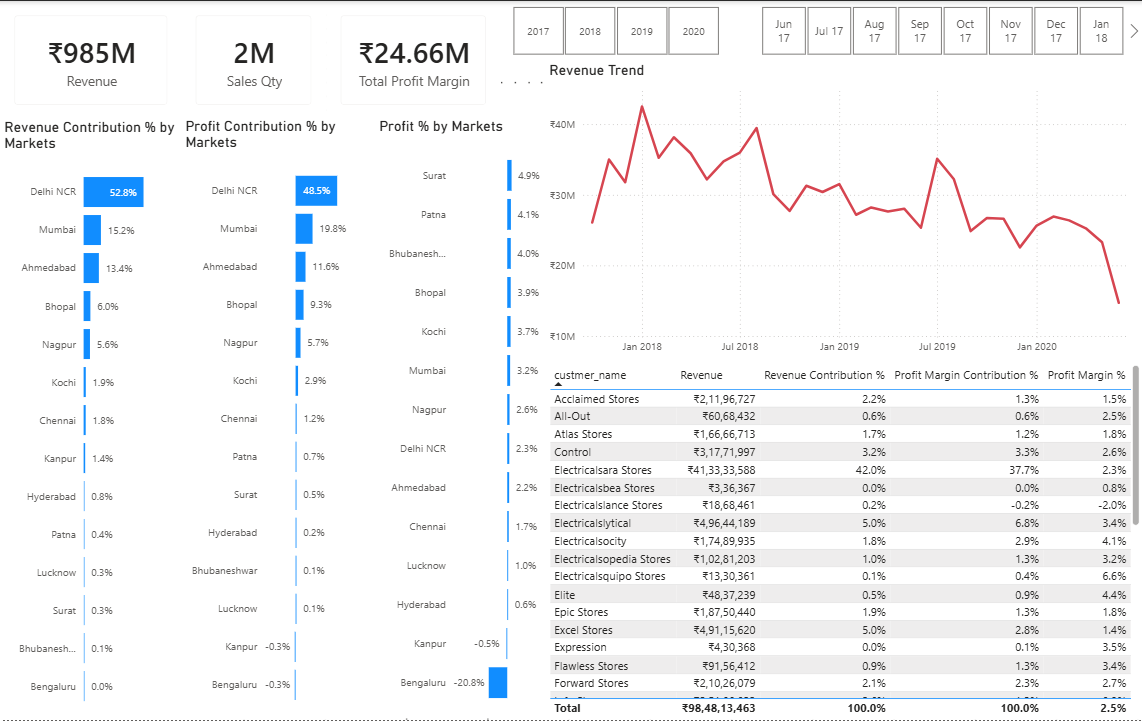

What the dashboard file says about the page in this screenshot:
{"tool":"powerbi","page":{"name":"Profit Analysis","canvas":[1350,850],"ordinal":1},"visuals":[{"type":"cardVisual","fields":{"Data":["BaseMeasures.Sales Qty"]},"box":[214.4,0,171.2,140.8],"z":0},{"type":"cardVisual","fields":{"Data":["BaseMeasures.Revenue"]},"box":[0,0,215,140],"z":1000},{"type":"barChart","title":"Profit % by Markets","fields":{"Category":["sales markets.markets_name"],"Y":["BaseMeasures.Profit Margin %"]},"box":[443.2,137.6,200,710.4],"z":2000},{"type":"barChart","title":"Revenue Contribution % by Markets","fields":{"Category":["sales markets.markets_name"],"Y":["BaseMeasures.Revenue Contribution %"]},"box":[0,139.2,214.4,712],"z":3000},{"type":"slicer","fields":{"Values":["sales date.year"]},"box":[580.8,0,292.8,70.4],"z":4000},{"type":"slicer","fields":{"Values":["sales date.cy_date"]},"box":[873.6,0,476.8,70.4],"z":5000},{"type":"tableEx","title":"Top 5 Customers","fields":{"Values":["sales customers.custmer_name","BaseMeasures.Revenue","BaseMeasures.Revenue Contribution %","BaseMeasures.Profit Margin Contribution %","BaseMeasures.Profit Margin %"]},"box":[643.2,425.6,707.2,424],"z":6000},{"type":"lineChart","title":"Revenue Trend","fields":{"Y":["BaseMeasures.Revenue"],"Category":["sales date.cy_date"]},"box":[643.2,70.4,707.2,355.2],"z":8000},{"type":"cardVisual","fields":{"Data":["BaseMeasures.Total Profit Margin"]},"box":[385.6,0,206.4,140.8],"z":9000},{"type":"barChart","title":"Profit Contribution % by Markets","fields":{"Category":["sales markets.markets_name"],"Y":["BaseMeasures.Profit Margin Contribution %"]},"box":[214.4,137.6,228.8,712],"z":10000}]}

Visuals, with their boxes in screenshot pixels (x1, y1, x2, y2), scaled from the page's 1350x850 canvas onto the 1142x721 screenshot:
cardVisual - BaseMeasures.Sales Qty: pyautogui.locateOnScreen(181, 0, 326, 119)
cardVisual - BaseMeasures.Revenue: pyautogui.locateOnScreen(0, 0, 182, 119)
"Profit % by Markets" barChart: pyautogui.locateOnScreen(375, 117, 544, 719)
"Revenue Contribution % by Markets" barChart: pyautogui.locateOnScreen(0, 118, 181, 720)
slicer - sales date.year: pyautogui.locateOnScreen(491, 0, 739, 60)
slicer - sales date.cy_date: pyautogui.locateOnScreen(739, 0, 1141, 60)
"Top 5 Customers" tableEx: pyautogui.locateOnScreen(544, 361, 1141, 720)
"Revenue Trend" lineChart: pyautogui.locateOnScreen(544, 60, 1141, 361)
cardVisual - BaseMeasures.Total Profit Margin: pyautogui.locateOnScreen(326, 0, 501, 119)
"Profit Contribution % by Markets" barChart: pyautogui.locateOnScreen(181, 117, 375, 720)
